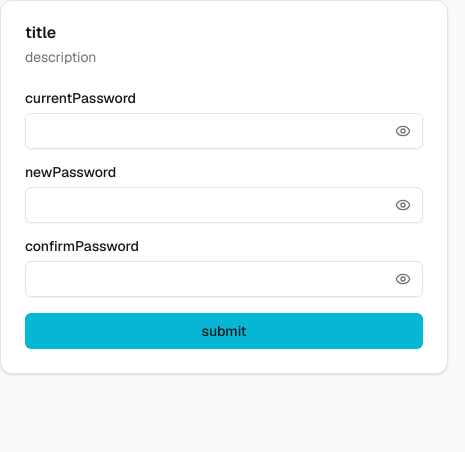
Test case: ChangePasswordForm › changes the password, refreshes the session and confirms
The width and height of the screenshot is (465, 452).
Step 1. Type "oldPass123" into the password field labelled "currentPassword" → (224, 131), box [25,113,423,149]
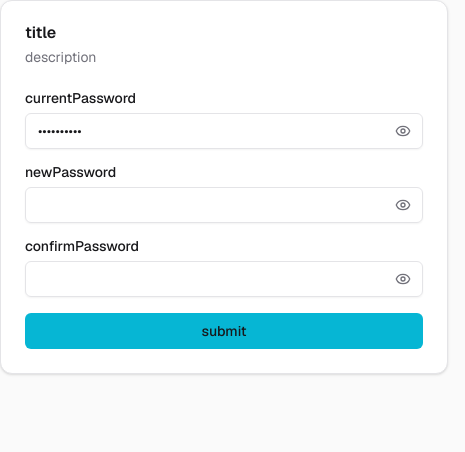
Step 2. Type "newPass123" into the password field labelled "newPassword" → (224, 205), box [25,187,423,223]
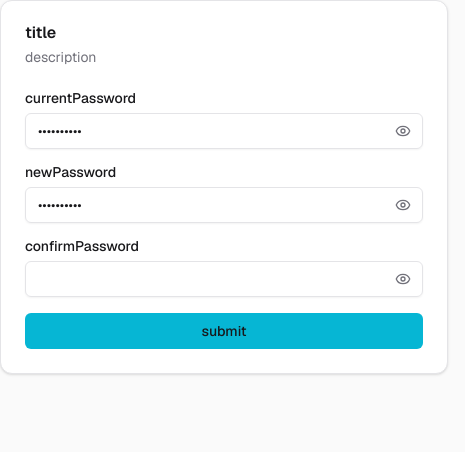
Step 3. Type "newPass123" into the password field labelled "confirmPassword" → (224, 279), box [25,261,423,297]
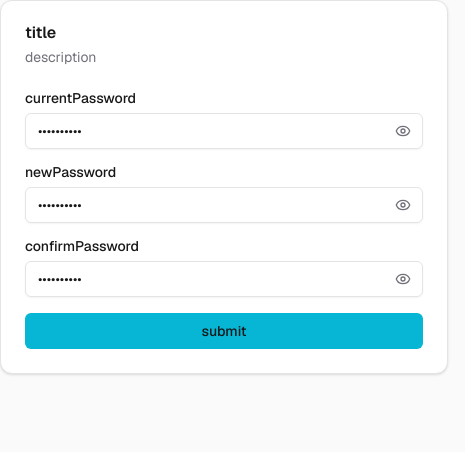
Step 4. Click the button "submit" → (224, 331), box [25,313,423,349]
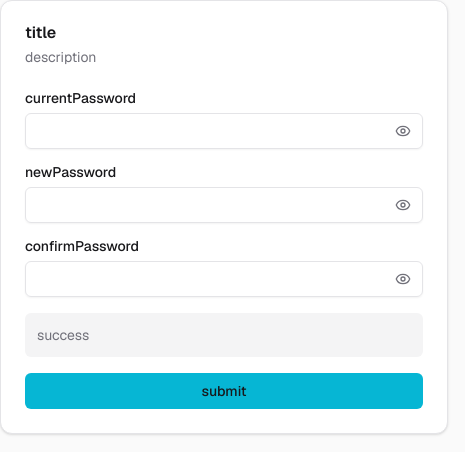
Expected: the message reads "success", [37,326,89,344]
